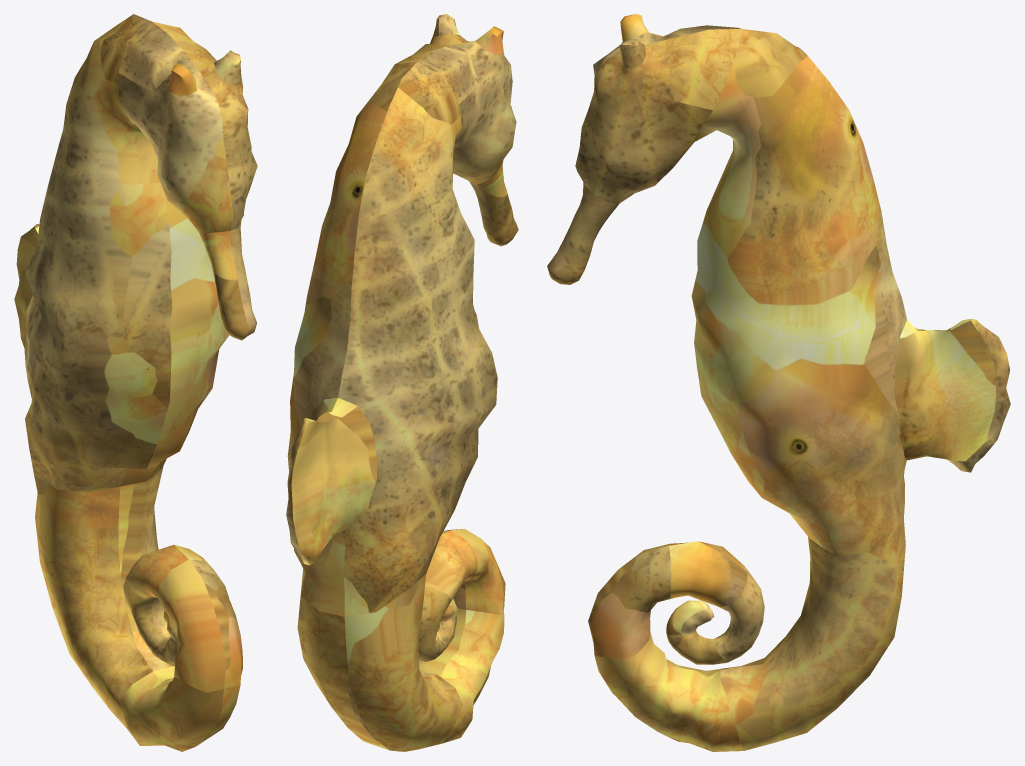
The model's file is seahorse.glb.
The picture shows the model from 3 angles, left to right: view 1: azimuth 30°, elevation 25°; view 2: azimuth 150°, elevation 25°; view 3: azimuth 270°, elevation 25°; orthographic projection. The views are drawn at different scales.
Parts seen in each view (by area): view 1: RetopoGroup1; view 2: RetopoGroup1; view 3: RetopoGroup1.
Part boxes in pixels (x1,y1,x2,y2): RetopoGroup1: (14, 14, 257, 751); RetopoGroup1: (286, 14, 518, 751); RetopoGroup1: (547, 14, 1010, 751).
Bounding box in the file's own units: 0.0483 × 0.18 × 0.1049.
Materials: 1 (1 with a texture image).
